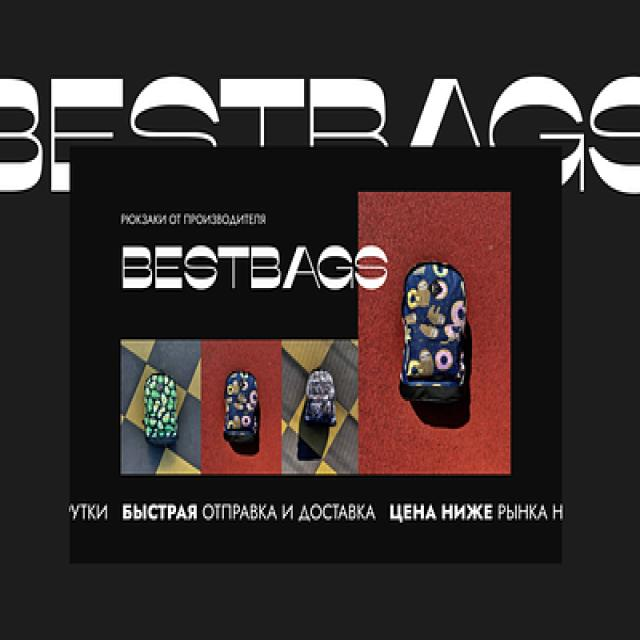backpack: (400, 261, 469, 404), (221, 368, 263, 449), (144, 371, 183, 448), (303, 368, 340, 431)
